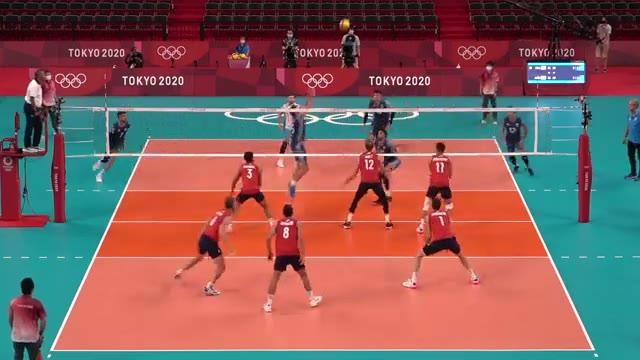ball: (340, 18, 351, 32)
